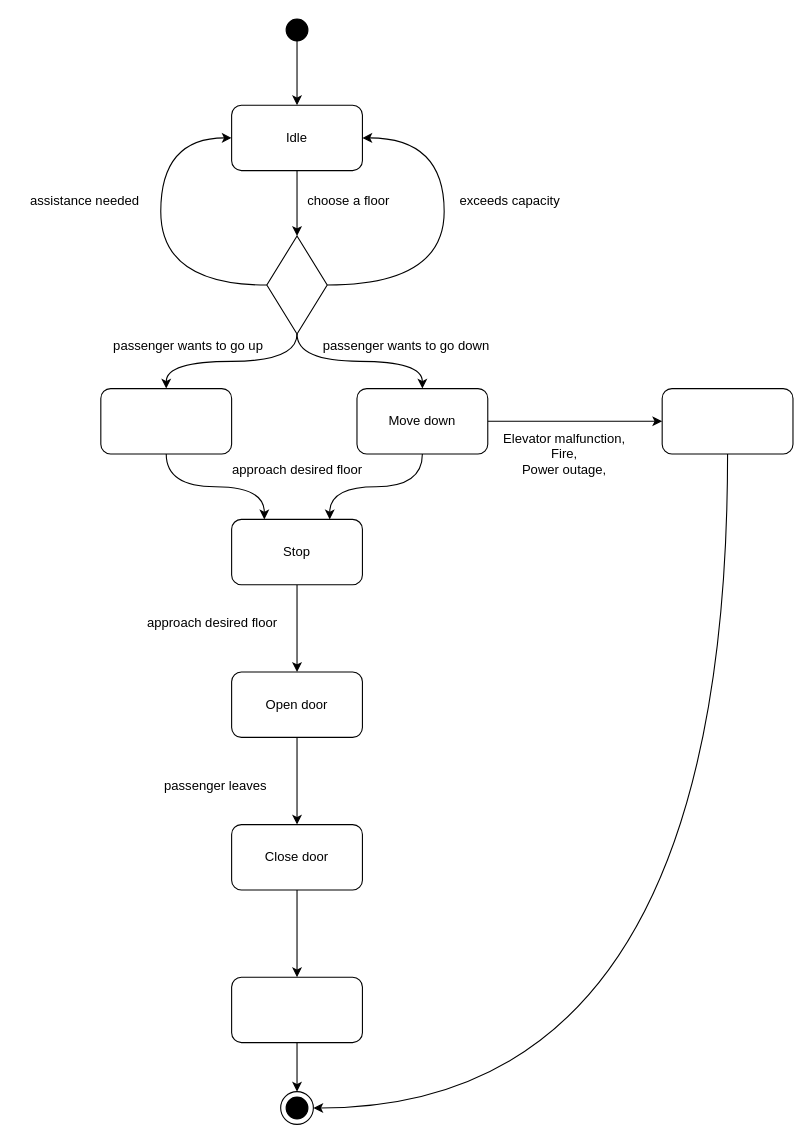
This 812x1143 diagram has some shape labels left out. Each missing label, with the box of its shape:
Emergency Procedures: (661, 387, 793, 454)
Move up: (100, 387, 232, 454)
Process next request: (231, 976, 362, 1043)
